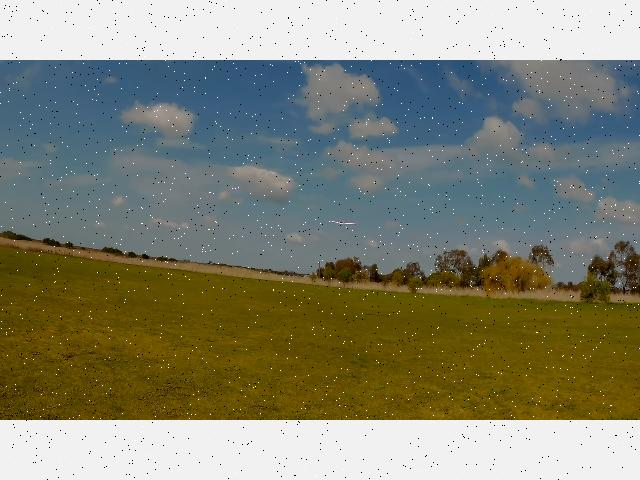Anti-Drone: (330, 221, 358, 225)
